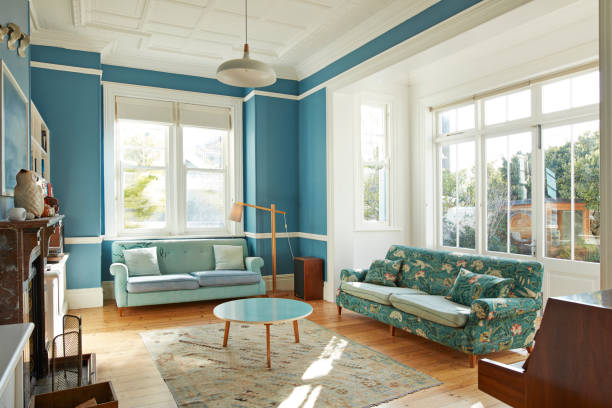floor lamp: (226, 194, 289, 298)
sofa: (335, 244, 546, 368), (105, 236, 270, 318)
table: (213, 295, 314, 370)
wall art: (0, 57, 30, 199)
